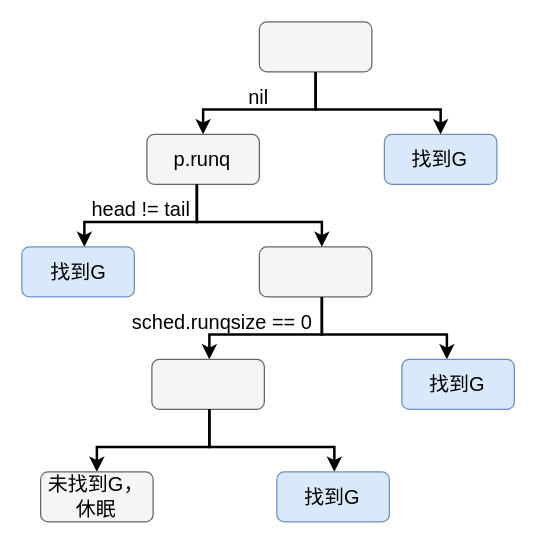
The diagram is 536 pixels wide and 544 high, and some of its shapes have lost their labels. The centre of each missing label's shape, as x and y in pixels:
p.runnext: the point at 315,46
sched.runq: the point at 315,271
从其他P窃取: the point at 207,383
